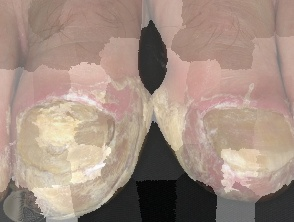Nail_psoriasis: (0, 69, 169, 222), (142, 81, 294, 205)
